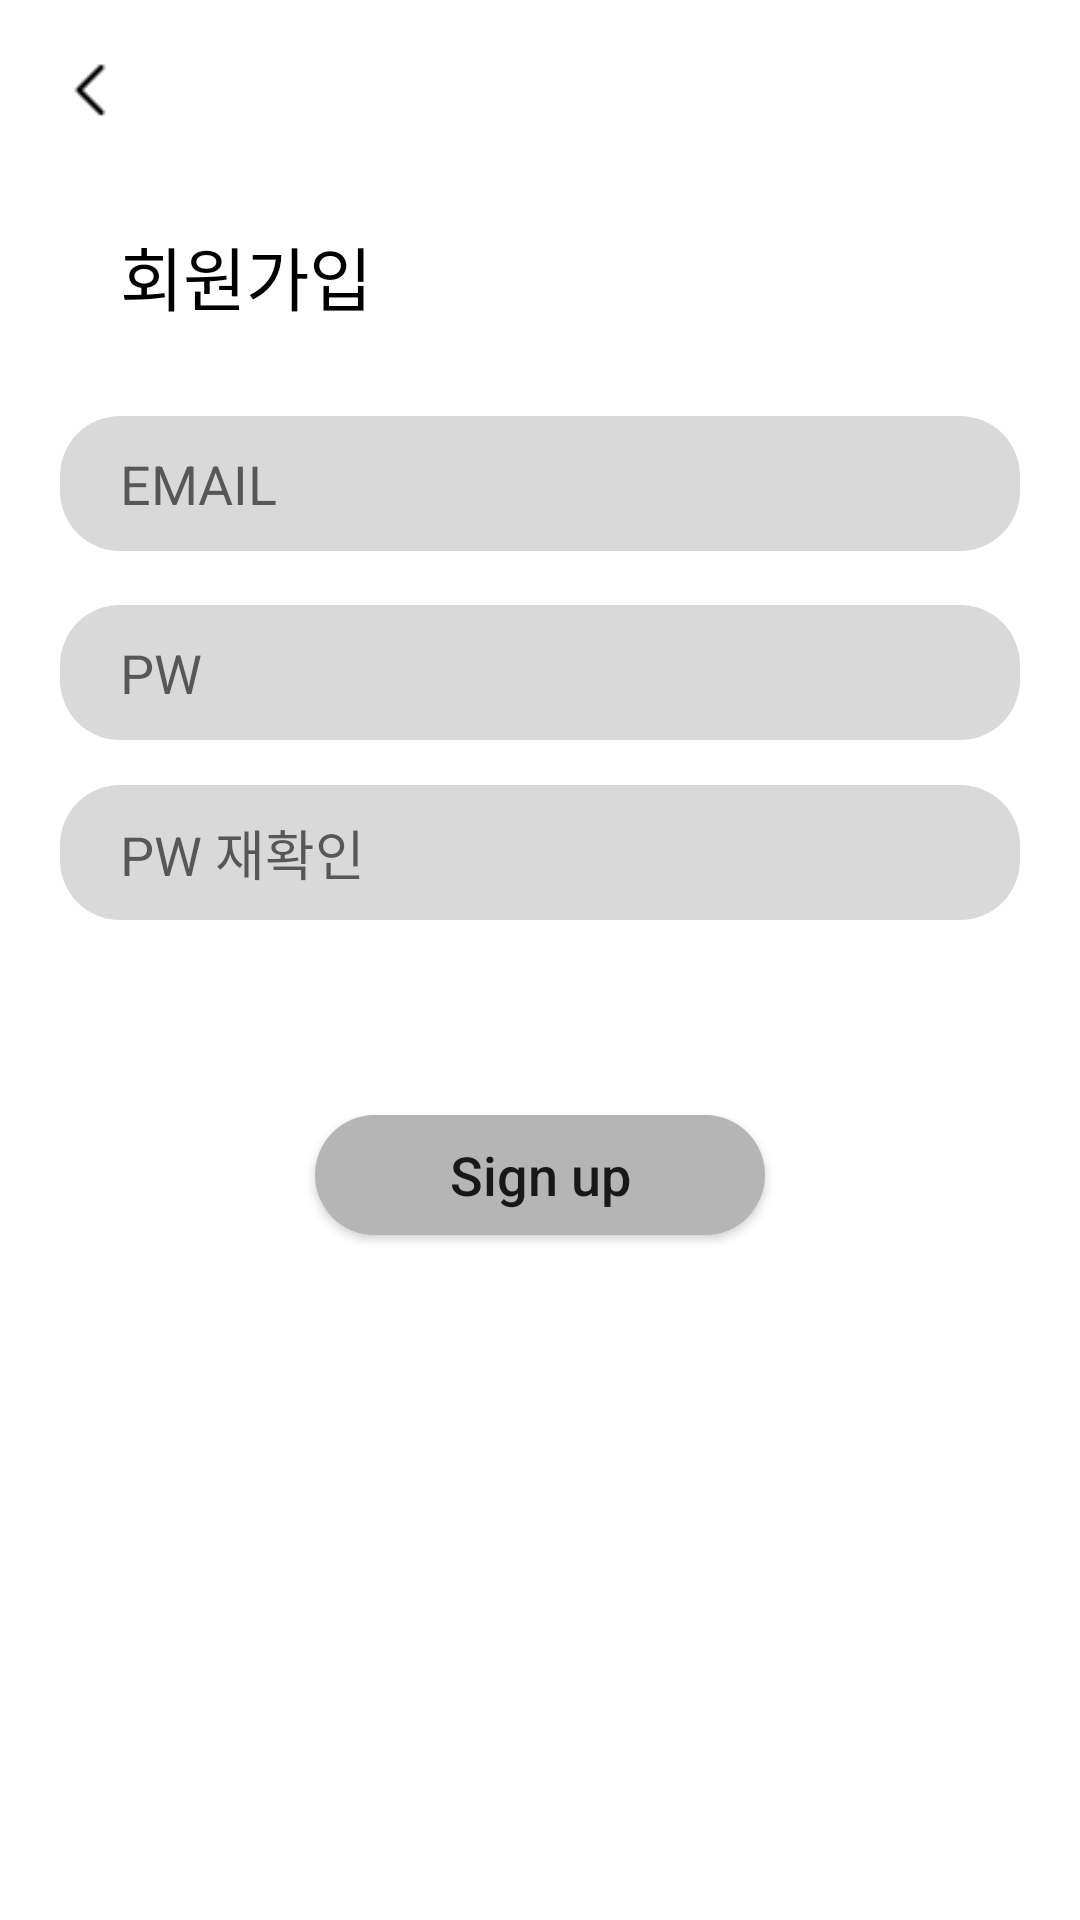

Screen size 1080px×1920px. Icon name, then its center in pixels as point (x, y):
left arrow: point (90, 90)
